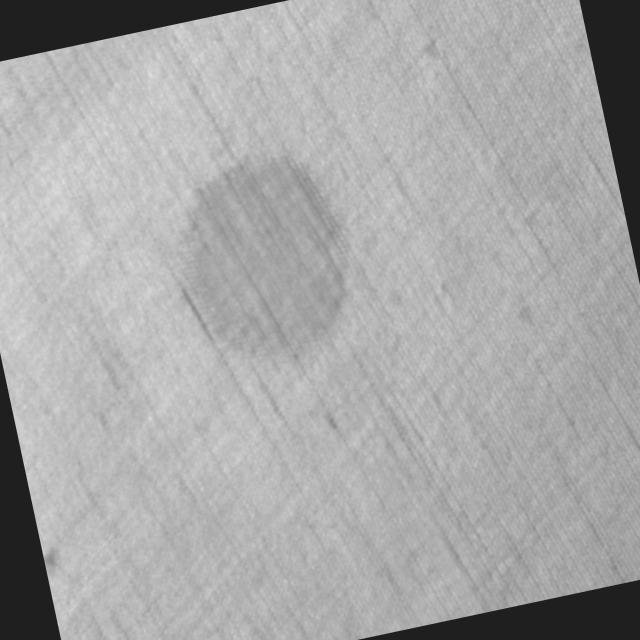oil spot: (157, 134, 365, 372)
